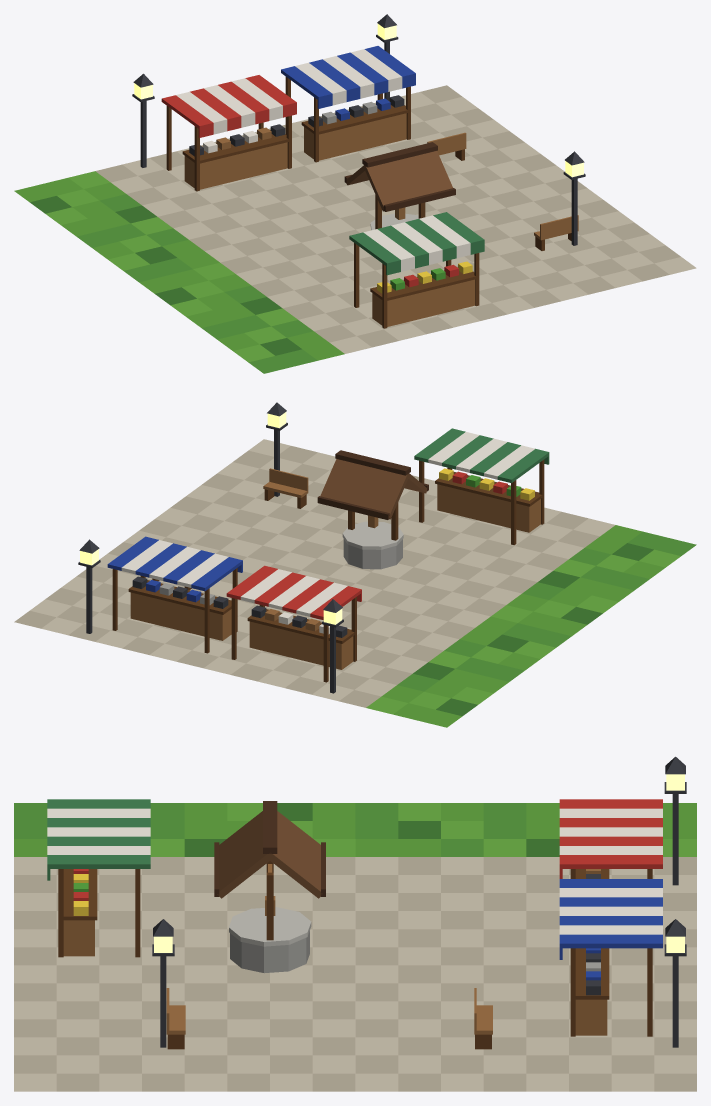
Rendered from chunk_1_8.glb.
The picture shows the model from 3 angles, top to bottom: view 1: azimuth 30°, elevation 25°; view 2: azimuth 150°, elevation 25°; view 3: azimuth 270°, elevation 25°; orthographic projection. The views are drawn at different scales.
Parts seen in each view (by area): view 1: chunk_1_8; view 2: chunk_1_8; view 3: chunk_1_8.
Part boxes in pixels (x1=…): chunk_1_8: x1=14, y1=14, x2=696, y2=373; chunk_1_8: x1=14, y1=402, x2=696, y2=727; chunk_1_8: x1=14, y1=756, x2=696, y2=1091.
Bounding box in the file's own units: 16 × 3.41 × 16.
